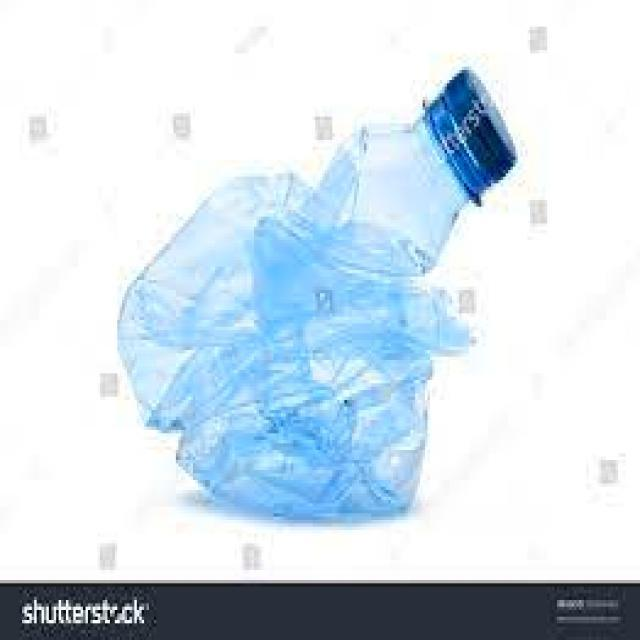BIODEGRADABLE: (118, 53, 524, 533)
